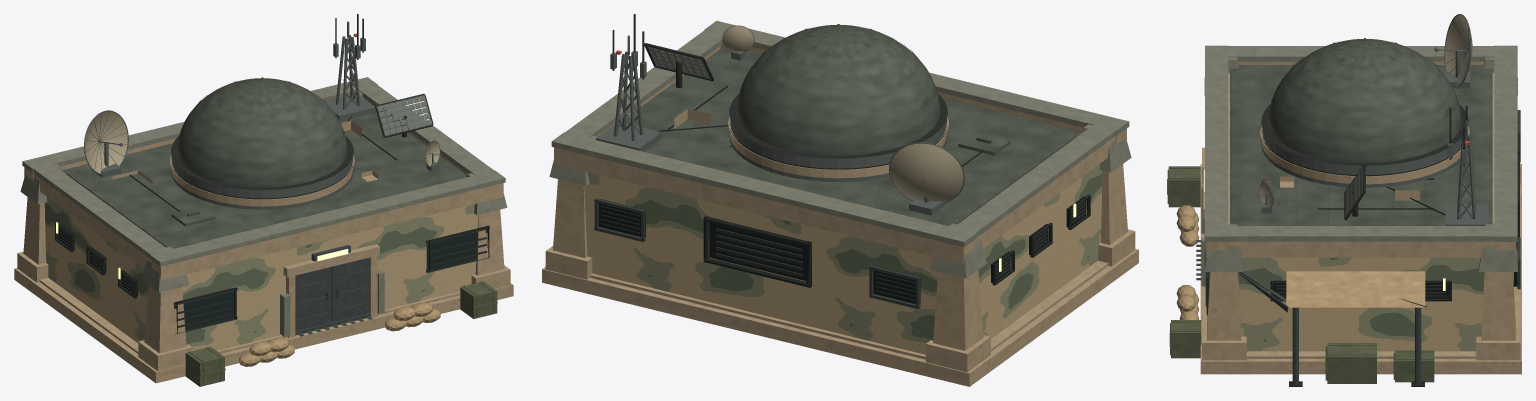
File: headquarters-1.glb
3 views of the same model, side by side, from view 1: azimuth 30°, elevation 25°; view 2: azimuth 150°, elevation 25°; view 3: azimuth 270°, elevation 25° (orthographic). The views are drawn at different scales.
Visible parts, largest first — view 1: HQ_Static_SF_OriginalPBR_concrete, HQ_Static_SF_OriginalPBR_walls, HQ_Static_SF_OriginalPBR_roof, HQ_Dome_Shell, HQ_Static_SF_OriginalPBR_trim, HQ_Static_HQ_PBR_black_grill, HQ_Static_SF_OriginalPBR_crates, HQ_Dome_Armour, HQ_Static_HQ_PBR_antireflective_window, HQ_Static_HQ_PBR_radar_steel, HQ_door_leaf_L, HQ_Static_SF_OriginalPBR_sandbags (+10 smaller); view 2: HQ_Static_SF_OriginalPBR_walls, HQ_Static_SF_OriginalPBR_concrete, HQ_Dome_Shell, HQ_Static_SF_OriginalPBR_trim, HQ_Static_SF_OriginalPBR_roof, HQ_Radar_01_LargeDish_Rotor_HQ_PBR_radar_reflector, HQ_Static_SF_VentRecessDark, HQ_Static_HQ_PBR_radar_steel, HQ_Dome_Armour, HQ_Static_SF_VentFrameCharcoal, HQ_Static_SF_VentSlatsGunmetal, HQ_Dome_Frame (+9 smaller); view 3: HQ_Dome_Shell, HQ_Static_SF_OriginalPBR_concrete, HQ_Static_SF_OriginalPBR_trim, HQ_Static_SF_OriginalPBR_roof, HQ_Static_SF_OriginalPBR_walls, HQ_Static_SF_OriginalPBR_crates, HQ_Static_SF_OriginalPBR_canvas, HQ_Dome_Armour, HQ_Static_HQ_PBR_radar_steel, HQ_Static_SF_OriginalPBR_steel, HQ_Dome_Base, HQ_Dome_Frame (+9 smaller).
Part boxes in pixels (x1,y1,x2,y2): HQ_Static_SF_OriginalPBR_concrete: (14, 98, 513, 383); HQ_Static_SF_OriginalPBR_walls: (44, 197, 478, 350); HQ_Static_SF_OriginalPBR_roof: (61, 111, 466, 248); HQ_Dome_Shell: (177, 78, 347, 187); HQ_Static_SF_OriginalPBR_trim: (20, 77, 507, 336); HQ_Static_HQ_PBR_black_grill: (129, 14, 489, 334); HQ_Static_SF_OriginalPBR_crates: (185, 281, 497, 386); HQ_Dome_Armour: (170, 157, 353, 209); HQ_Static_HQ_PBR_antireflective_window: (183, 227, 487, 330); HQ_Static_HQ_PBR_radar_steel: (324, 21, 375, 170); HQ_door_leaf_L: (331, 257, 369, 321); HQ_Static_SF_OriginalPBR_sandbags: (239, 302, 440, 366); HQ_Static_SF_OriginalPBR_walls: (584, 164, 1102, 354); HQ_Static_SF_OriginalPBR_concrete: (542, 46, 1138, 386); HQ_Dome_Shell: (736, 24, 940, 155); HQ_Static_SF_OriginalPBR_trim: (549, 20, 1131, 278); HQ_Static_SF_OriginalPBR_roof: (622, 48, 1082, 225); HQ_Radar_01_LargeDish_Rotor_HQ_PBR_radar_reflector: (890, 143, 963, 202); HQ_Static_SF_VentRecessDark: (709, 196, 1086, 282); HQ_Static_HQ_PBR_radar_steel: (596, 35, 661, 151); HQ_Dome_Armour: (729, 119, 947, 181); HQ_Static_SF_VentFrameCharcoal: (703, 195, 1090, 287); HQ_Static_SF_VentSlatsGunmetal: (715, 202, 1085, 278); HQ_Dome_Frame: (729, 24, 947, 169); HQ_Dome_Shell: (1268, 38, 1461, 162); HQ_Static_SF_OriginalPBR_concrete: (1200, 61, 1521, 374); HQ_Static_SF_OriginalPBR_trim: (1201, 45, 1517, 286); HQ_Static_SF_OriginalPBR_roof: (1230, 65, 1492, 225); HQ_Static_SF_OriginalPBR_walls: (1238, 257, 1484, 351); HQ_Static_SF_OriginalPBR_crates: (1167, 166, 1434, 383); HQ_Static_SF_OriginalPBR_canvas: (1286, 271, 1425, 307); HQ_Dome_Armour: (1261, 129, 1466, 187); HQ_Static_HQ_PBR_radar_steel: (1318, 120, 1488, 225); HQ_Static_SF_OriginalPBR_steel: (1196, 240, 1426, 384); HQ_Dome_Base: (1260, 126, 1469, 184); HQ_Dome_Frame: (1261, 38, 1468, 176).
Bounding box in the file's own units: 16.39 × 8.68 × 11.55.
Materials: 24 (22 with a texture image).
